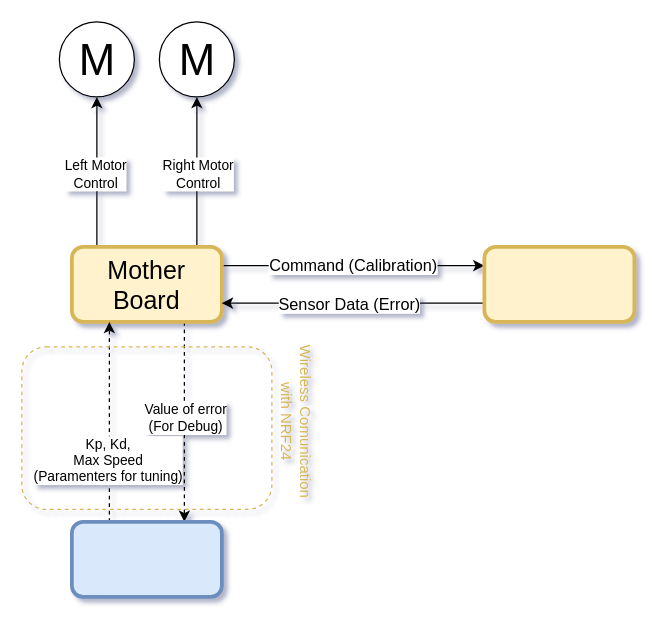
The diagram is 665 pixels wide and 628 high, and some of its shapes have lost their labels. Here are the shapes that lost their labels. From the top down, the centre of each, then its label:
At (x=559, y=283): "Sensor Board".
At (x=146, y=558): "Remote Console".
